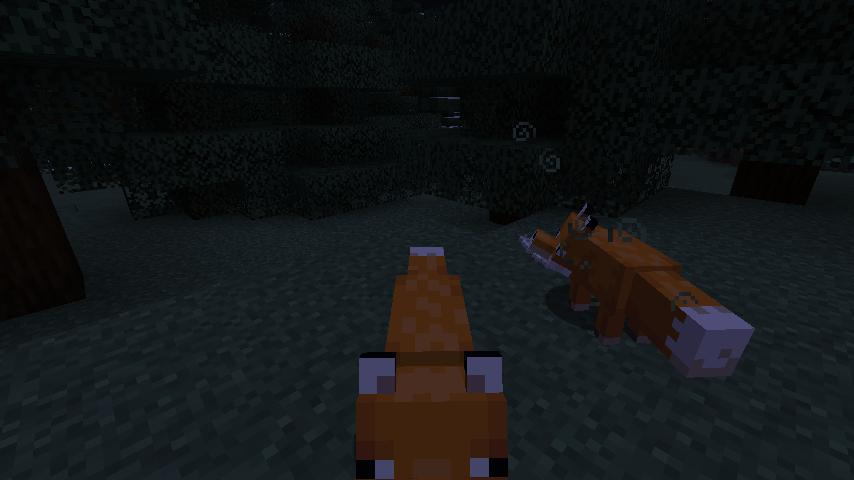fox: (518, 203, 759, 387), (349, 242, 515, 480)
